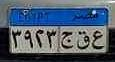2: (35, 29, 45, 48)
3: (10, 29, 22, 49), (46, 30, 57, 49)
9: (24, 30, 33, 48)
ain: (91, 29, 105, 49)
jeem: (60, 30, 74, 50)
qaaf: (76, 30, 90, 51)
